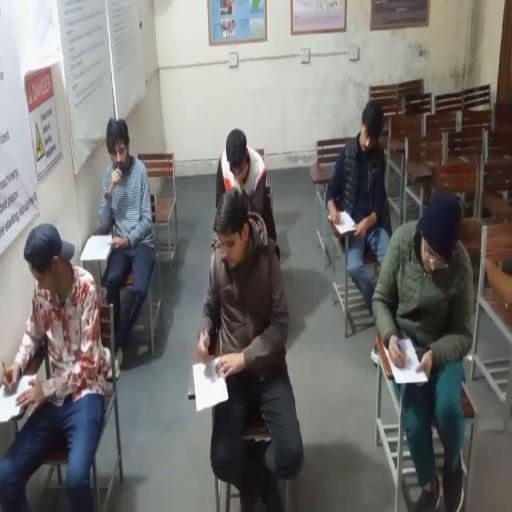paper: (378, 332, 431, 386), (193, 357, 228, 411), (0, 372, 36, 423), (80, 234, 114, 262), (332, 209, 357, 234)
